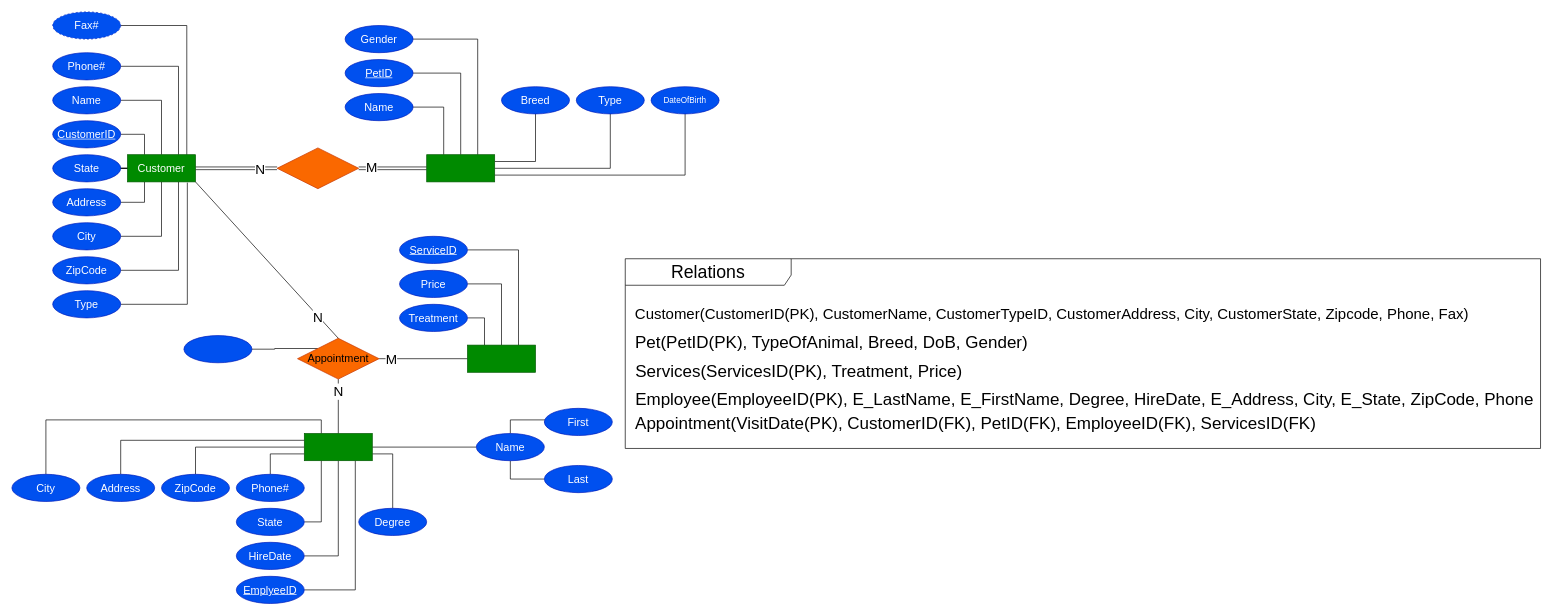
Image size: 1552x615. Some labels were removed from this diagram. Here are the shapes that lost their labels. From the top down, the centre of each, then its label:
the point at 317,168: Owns
the point at 460,168: Pet
the point at 217,349: VisitDate
the point at 501,358: Service
the point at 338,447: Employee
